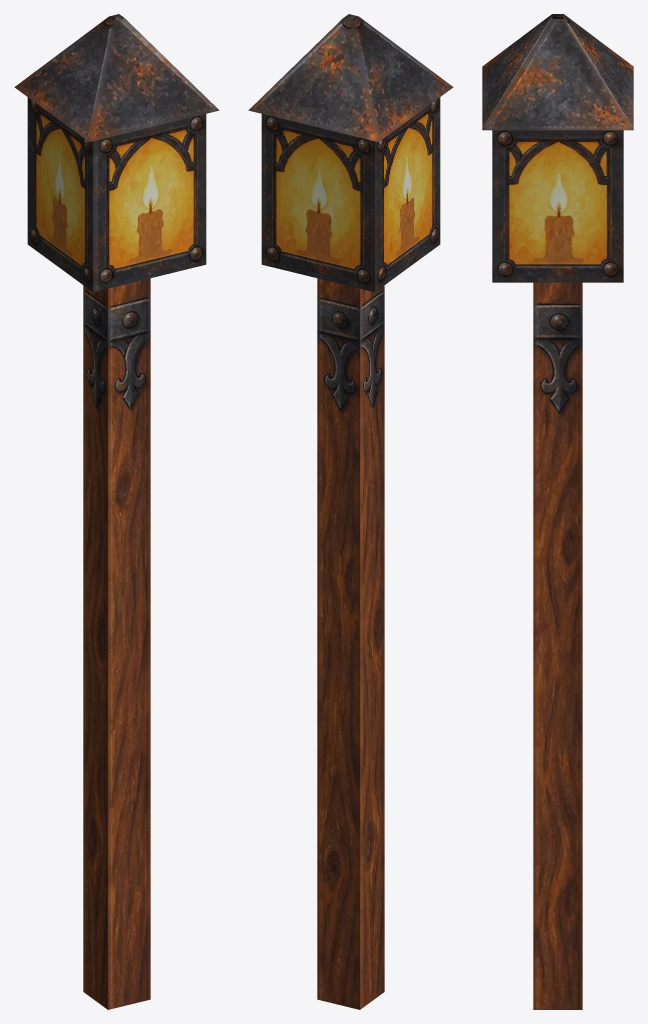
Rendered from lantern_post.glb.
3 views of the same model, side by side, from view 1: azimuth 30°, elevation 25°; view 2: azimuth 150°, elevation 25°; view 3: azimuth 270°, elevation 25° (orthographic).
Visible parts, largest first — view 1: GEO-lantern_post; view 2: GEO-lantern_post; view 3: GEO-lantern_post.
Part boxes in pixels (box(x1,y1,x2,y2)): GEO-lantern_post: box(14, 14, 219, 1009); GEO-lantern_post: box(248, 14, 453, 1009); GEO-lantern_post: box(482, 14, 633, 1009).
Size of the model in its own units: 0.3677 by 2.64 by 0.3677.
1 material, 1 textured.
